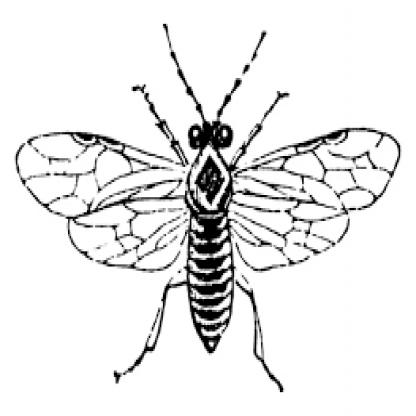sawfly: (12, 20, 398, 394)
